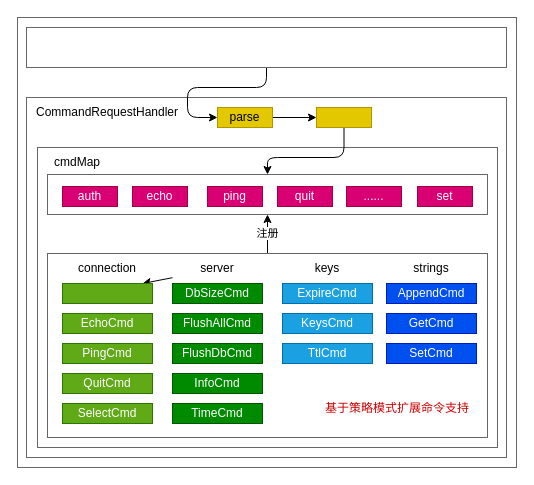
This 534x485 diagram has some shape labels left out. Here are the shapes that lost their labels. From the top down, the box of each, then its label:
(26, 26, 506, 68): client
(316, 106, 372, 128): dispatch
(62, 282, 152, 304): AuthCmd
